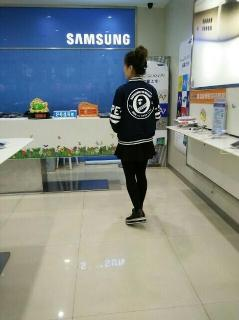long sleeve top: (110, 77, 161, 145)
skirt: (115, 132, 157, 162)
trousers: (120, 138, 150, 208)
